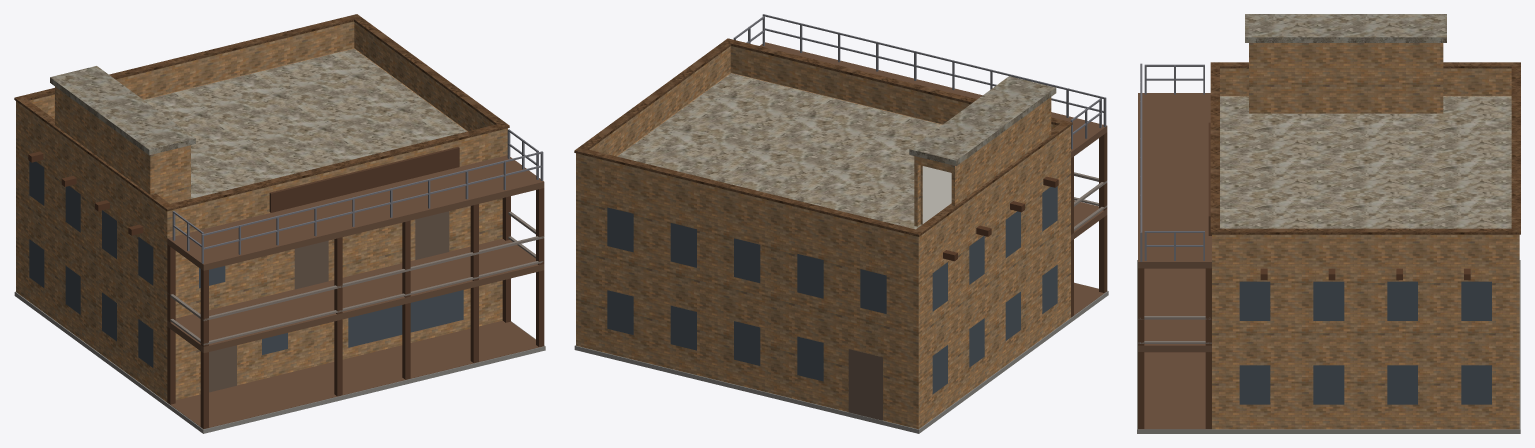
Rendered from cr-trading-post.towns-v1.lod1.glb.
The picture shows the model from 3 angles, left to right: view 1: azimuth 30°, elevation 25°; view 2: azimuth 150°, elevation 25°; view 3: azimuth 270°, elevation 25°; orthographic projection.
Parts seen in each view (by area): view 1: cr-trading-post; view 2: cr-trading-post; view 3: cr-trading-post.
Part boxes in pixels (<box>): cr-trading-post: <box>14,14,545,433</box>; cr-trading-post: <box>574,14,1108,433</box>; cr-trading-post: <box>1137,14,1520,433</box>.
Size of the model in its own units: 13.9 by 8.95 by 12.47.
3 materials, 2 textured.
